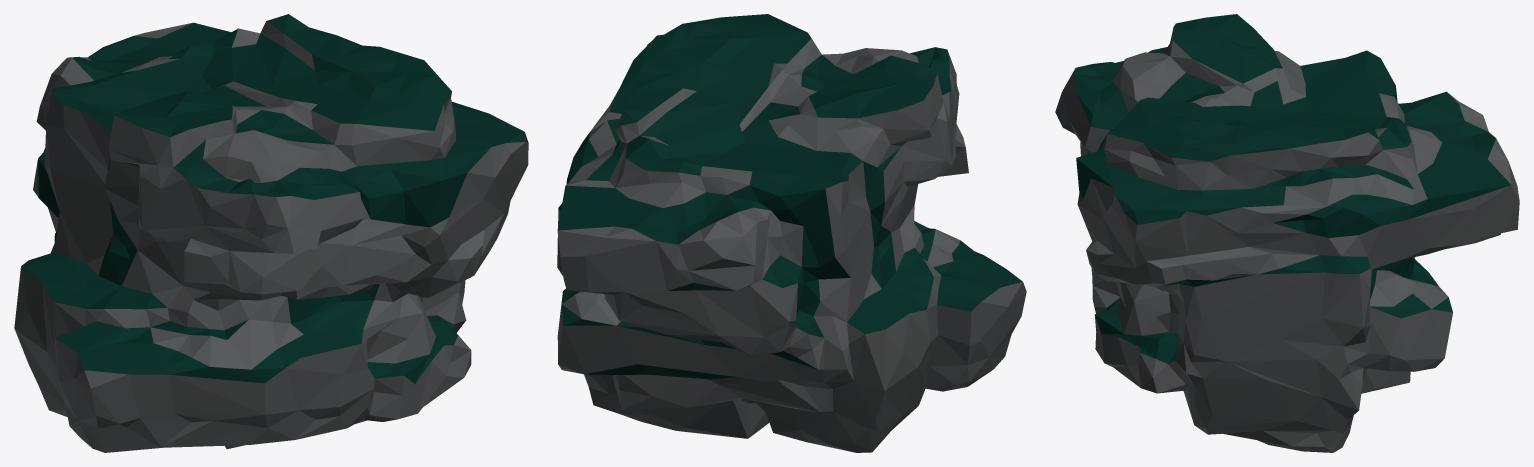
File: MCastle_CliffRock_Med_01.FBX
The picture shows the model from 3 angles, left to right: view 1: azimuth 30°, elevation 25°; view 2: azimuth 150°, elevation 25°; view 3: azimuth 270°, elevation 25°; orthographic projection. The views are drawn at different scales.
Visible parts, largest first — view 1: MCastle_CliffRock_Med_01_LOD0; view 2: MCastle_CliffRock_Med_01_LOD0; view 3: MCastle_CliffRock_Med_01_LOD0.
Part boxes in pixels (x1,y1,x2,y2): MCastle_CliffRock_Med_01_LOD0: (14, 14, 528, 452); MCastle_CliffRock_Med_01_LOD0: (557, 14, 1026, 452); MCastle_CliffRock_Med_01_LOD0: (1055, 14, 1519, 452).
Size of what is drawn, in the model's own units: 14.91 by 12.43 by 16.44.
